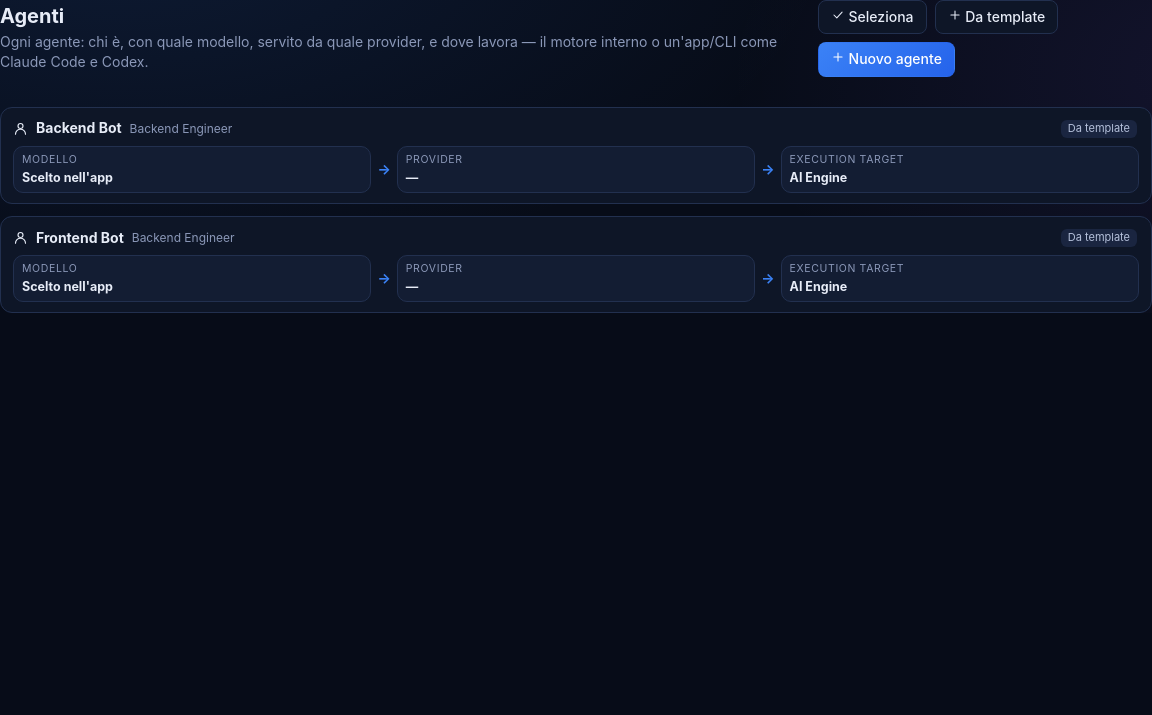
Test case: Agents — deleting (ADR-035 §2) › deletes one agent from its editor, under its tag, and the list follows at once
What coordinates should you click on to do the following:
click the button "Backend Bot"
I would click on:
 (576, 155)
Its box is [0,107,1151,204].
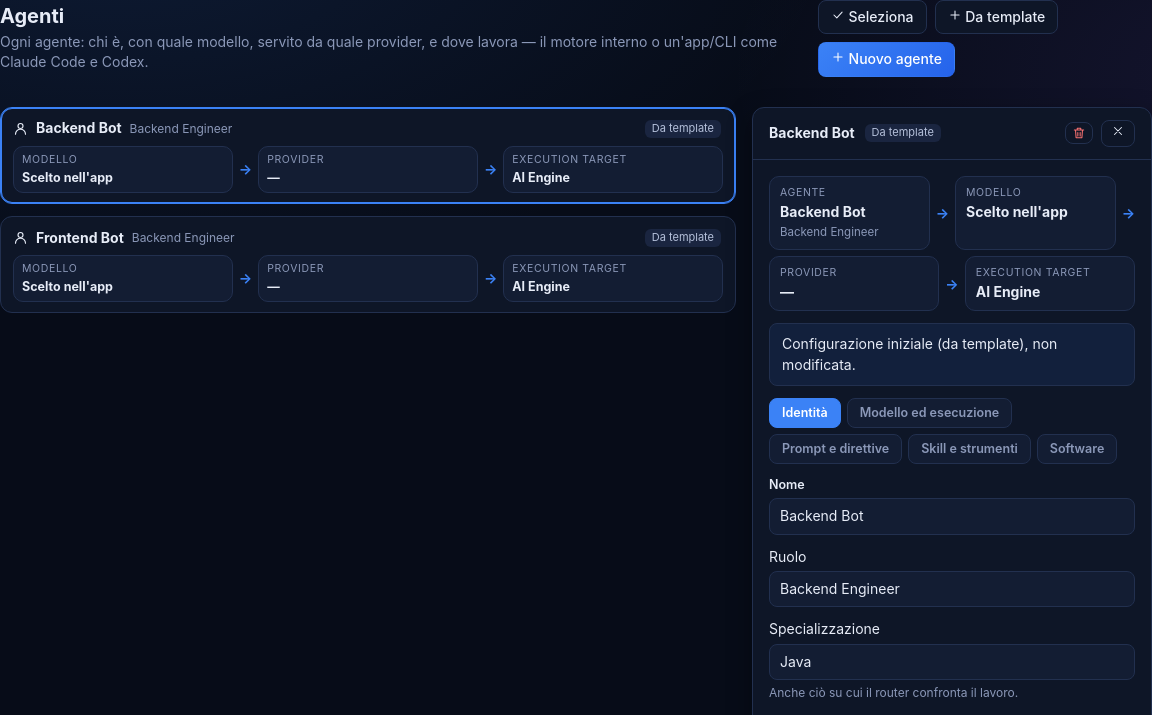
What coordinates should you click on to do the following:
click the button named "Elimina Backend Bot"
I would click on:
 (1079, 133)
Its box is [1065,122,1093,144].
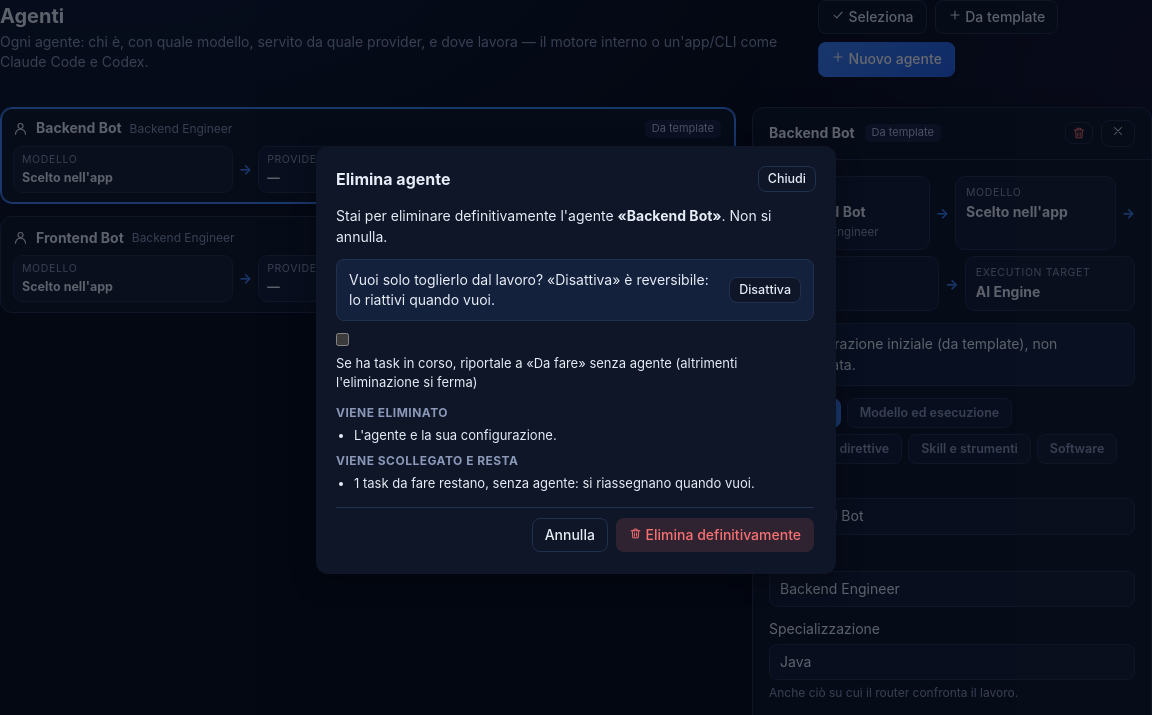
Expected: the list item "1 task da fare restano" is shown, [354,475,755,491]
Expected: the button "Disattiva" is shown, [729,277,801,303]
What coordinates should you click on to do the following:
click the button "Elimina definitivamente"
I would click on:
 (715, 535)
Its box is [616,518,814,552].
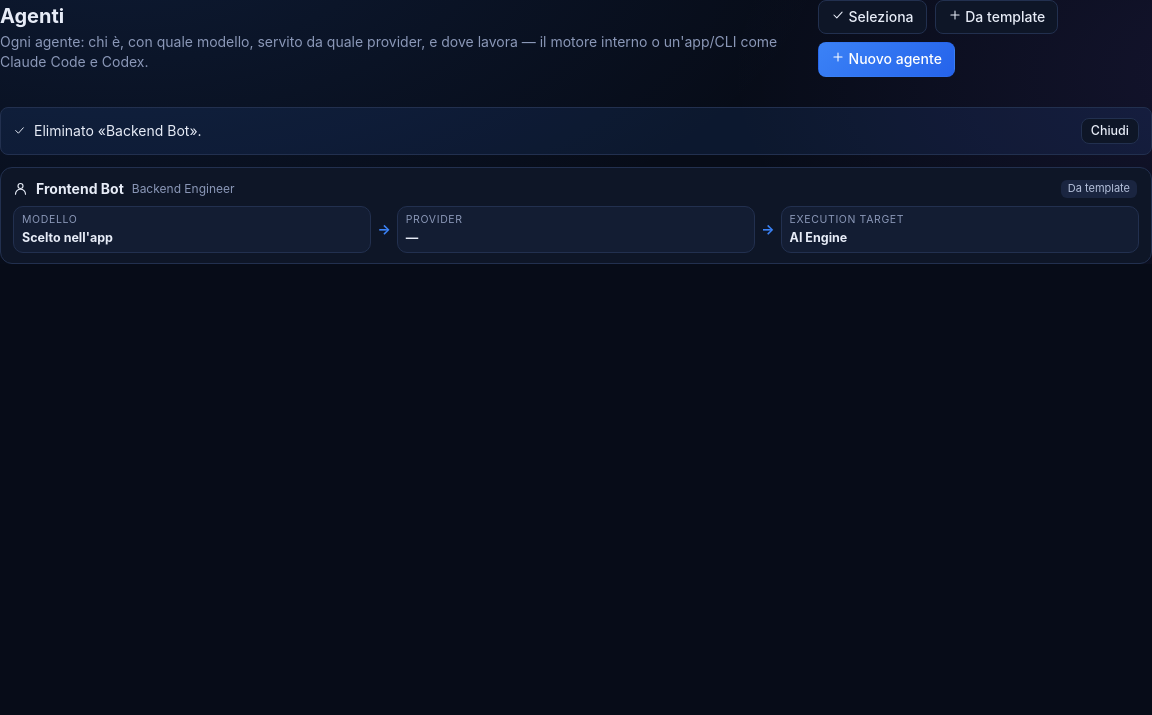
Expected: the button "Frontend Bot" is shown, [0,167,1151,264]
Expected: the text "Eliminato «Backend Bot»." is shown, [34,122,202,138]
